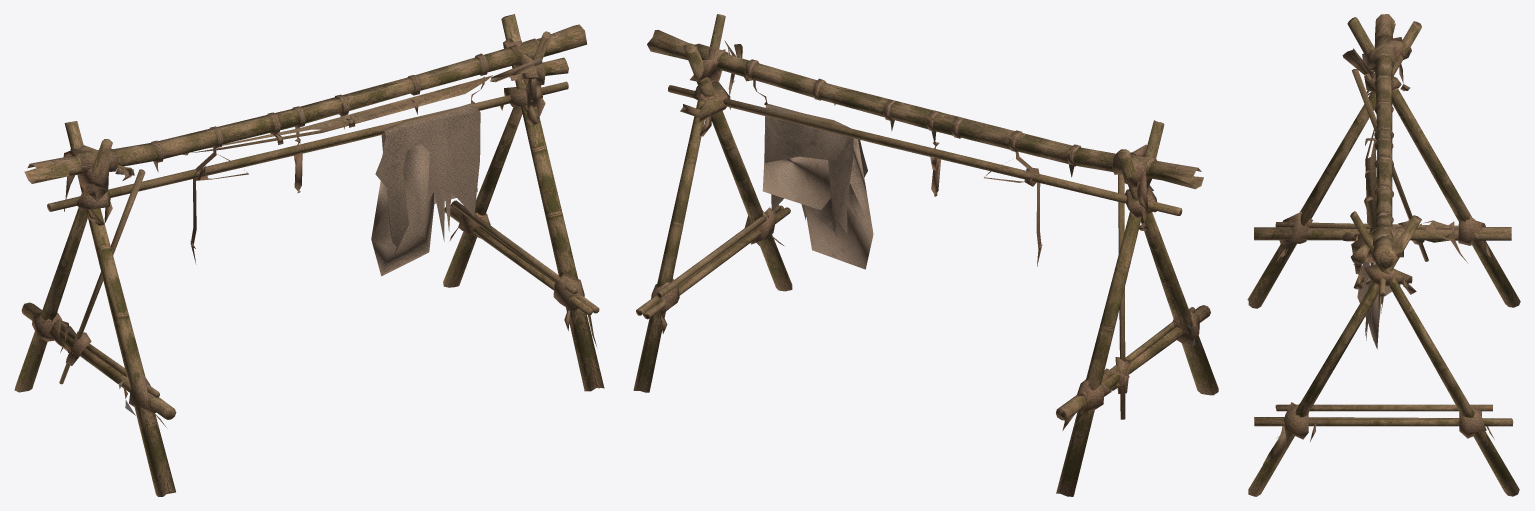
Rendered from Meshy_AI_Bamboo_Drying_Rack_20261028_texture.fbx.
The picture shows the model from 3 angles, left to right: view 1: azimuth 30°, elevation 25°; view 2: azimuth 150°, elevation 25°; view 3: azimuth 270°, elevation 25°; orthographic projection. The views are drawn at different scales.
Parts seen in each view (by area): view 1: Mesh_0; view 2: Mesh_0; view 3: Mesh_0.
Boxes of the visible parts, left/top/right/bottom form: Mesh_0: left=14, top=14, right=604, bottom=496; Mesh_0: left=633, top=14, right=1218, bottom=496; Mesh_0: left=1247, top=14, right=1520, bottom=496.
Size of the model in its own units: 95.9 by 52.29 by 45.36.
Materials: 1 (1 with a texture image).
